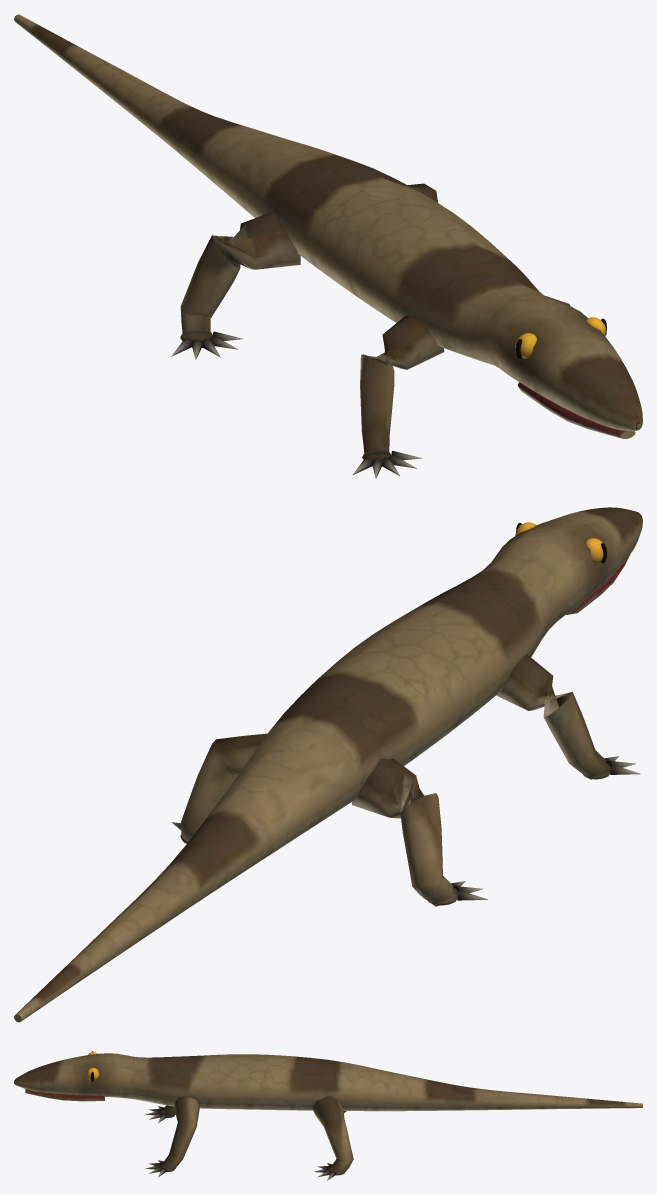
Rendered from lizard.glb.
3 views of the same model, one above another, from view 1: azimuth 30°, elevation 25°; view 2: azimuth 150°, elevation 25°; view 3: azimuth 270°, elevation 25° (orthographic). The views are drawn at different scales.
Visible parts, largest first — view 1: Lizard; view 2: Lizard; view 3: Lizard.
Boxes of the visible parts, x1,y1,x2,y2 form: Lizard: [14, 14, 642, 478]; Lizard: [14, 507, 642, 1022]; Lizard: [14, 1051, 642, 1180].
Size of the model in its own units: 0.4909 by 0.2539 by 1.67.
1 material, 1 textured.
